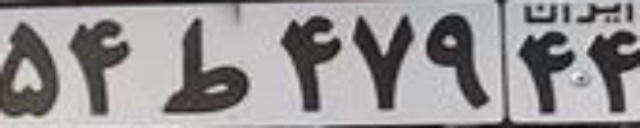4: (273, 15, 340, 112), (73, 18, 133, 114), (512, 31, 574, 113), (584, 32, 637, 112)
5: (0, 20, 66, 116)
7: (351, 13, 415, 111)
9: (423, 14, 492, 108)
taa: (162, 15, 251, 111)
